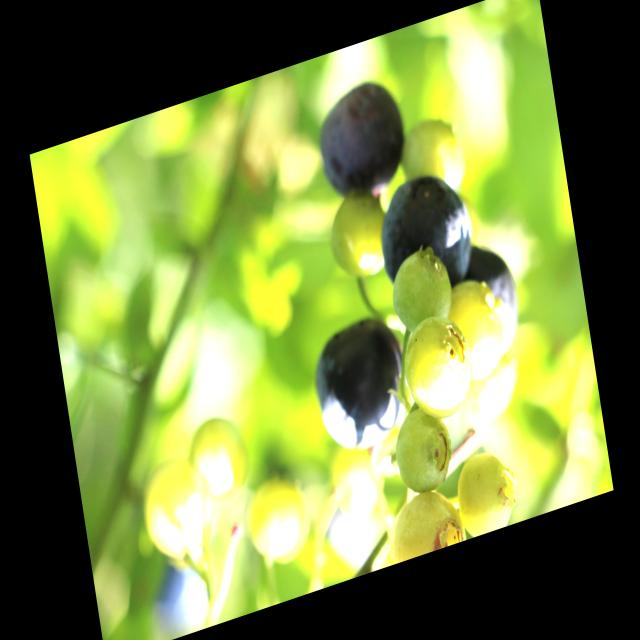blueberry: (367, 160, 479, 312), (306, 312, 412, 461), (308, 68, 417, 211), (461, 233, 526, 363)
blueberry-unripe: (131, 451, 218, 572), (397, 309, 480, 429), (442, 266, 512, 384), (388, 396, 462, 504), (321, 186, 398, 288), (183, 408, 257, 512), (242, 472, 316, 574), (380, 480, 467, 566), (384, 244, 458, 338), (449, 443, 518, 541), (327, 436, 388, 532)
